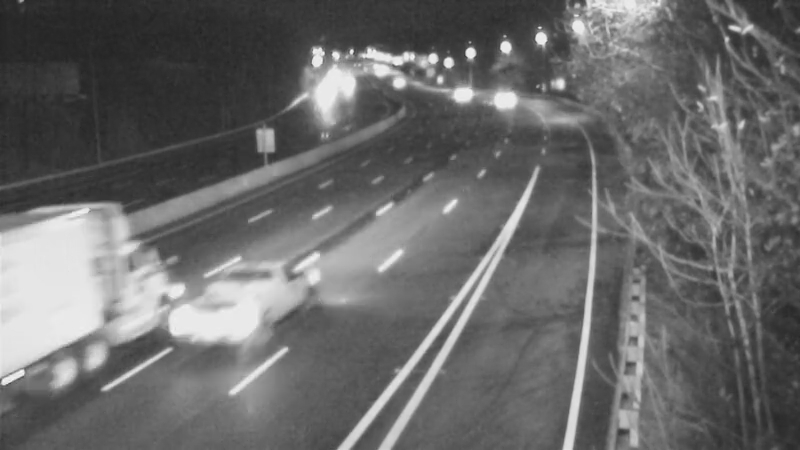vehicle: (204, 258, 284, 338), (30, 256, 110, 336), (435, 70, 485, 120), (470, 76, 520, 126), (295, 74, 345, 124)
